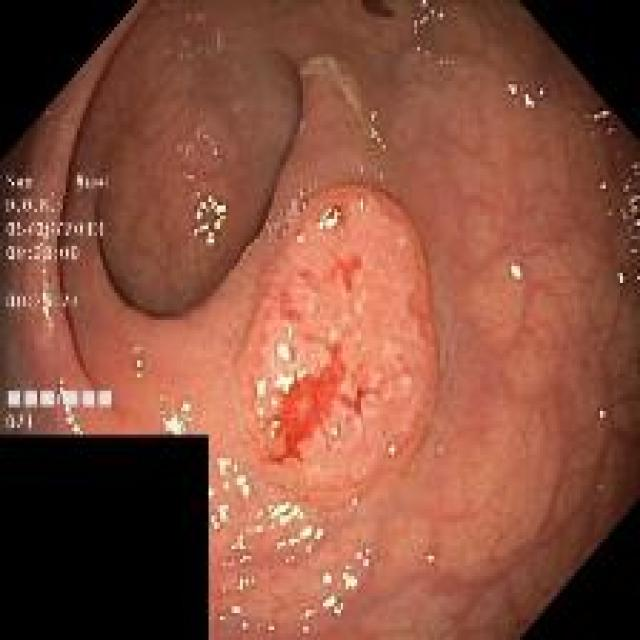Polyps: (240, 186, 439, 508)
